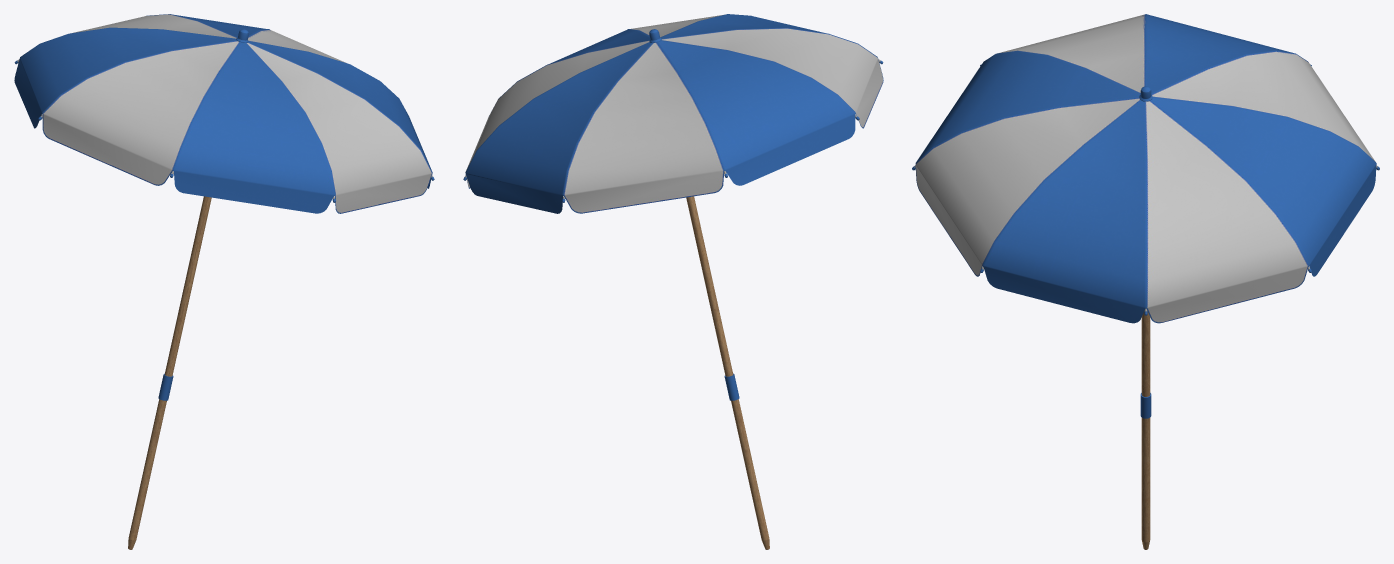
3 renders of one model, left to right at view 1: azimuth 30°, elevation 25°; view 2: azimuth 150°, elevation 25°; view 3: azimuth 270°, elevation 25°, orthographic. The views are drawn at different scales.
Visible parts, largest first — view 1: f5f2de48-7546-4456-a624-1619fa98a070; view 2: f5f2de48-7546-4456-a624-1619fa98a070; view 3: f5f2de48-7546-4456-a624-1619fa98a070.
Boxes of the visible parts, box(x1,y1,x2,y2) form: f5f2de48-7546-4456-a624-1619fa98a070: box(14, 14, 434, 549); f5f2de48-7546-4456-a624-1619fa98a070: box(463, 14, 883, 549); f5f2de48-7546-4456-a624-1619fa98a070: box(912, 14, 1379, 549).
Bounding box in the file's own units: 79.12 × 99.99 × 81.43.
1 material, 1 textured.
